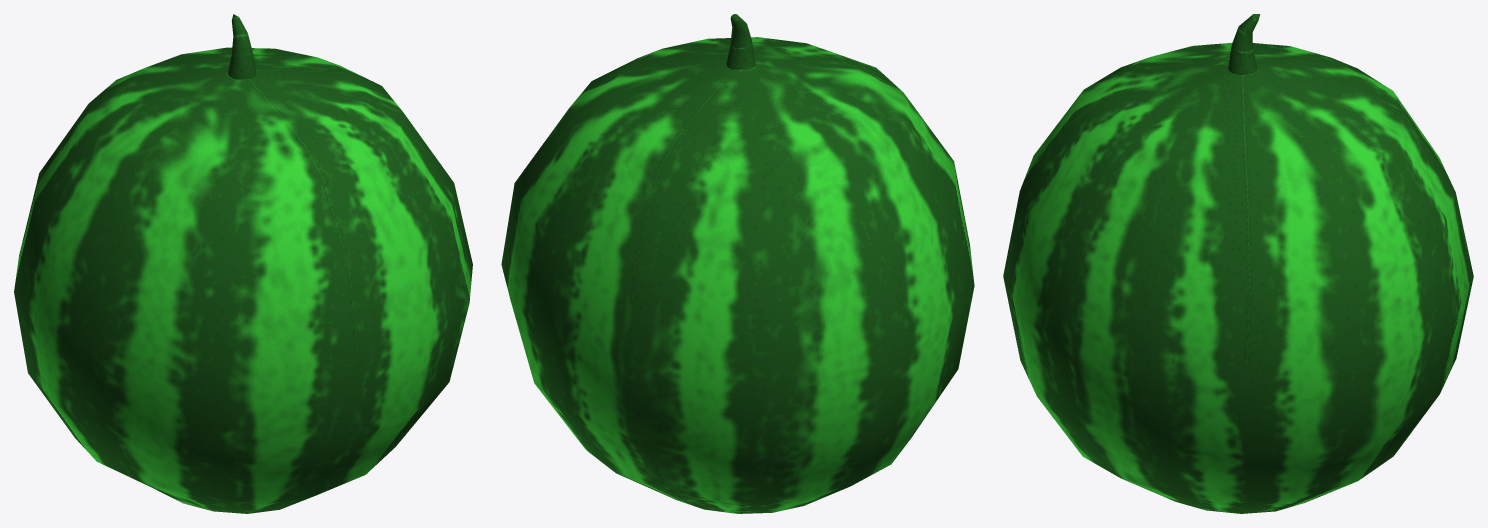
Rendered from watermelon.fbx.
The picture shows the model from 3 angles, left to right: view 1: azimuth 30°, elevation 25°; view 2: azimuth 150°, elevation 25°; view 3: azimuth 270°, elevation 25°; orthographic projection. The views are drawn at different scales.
Visible parts, largest first — view 1: Sphere; view 2: Sphere; view 3: Sphere.
Part boxes in pixels (<box>): Sphere: <box>14,14,472,513</box>; Sphere: <box>501,14,974,513</box>; Sphere: <box>1003,14,1473,513</box>.
Bounding box in the file's own units: 204 × 203 × 228.
